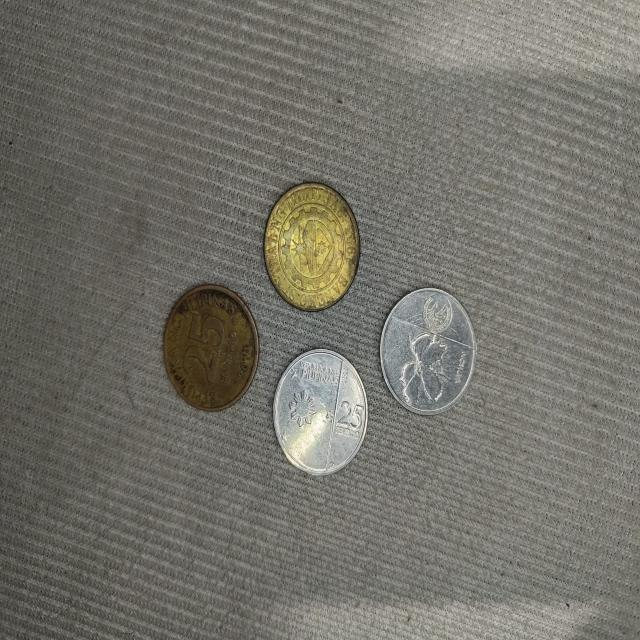25 cents: (378, 289, 478, 415), (273, 351, 369, 476)
25 cents-old: (257, 171, 365, 315), (163, 284, 263, 414)
